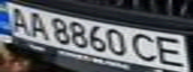0: (106, 27, 130, 57)
6: (87, 24, 109, 53)
8: (45, 16, 72, 45), (66, 19, 90, 49)
A: (21, 9, 51, 39), (3, 5, 33, 35)
C: (130, 30, 163, 63)
E: (151, 34, 190, 69)
